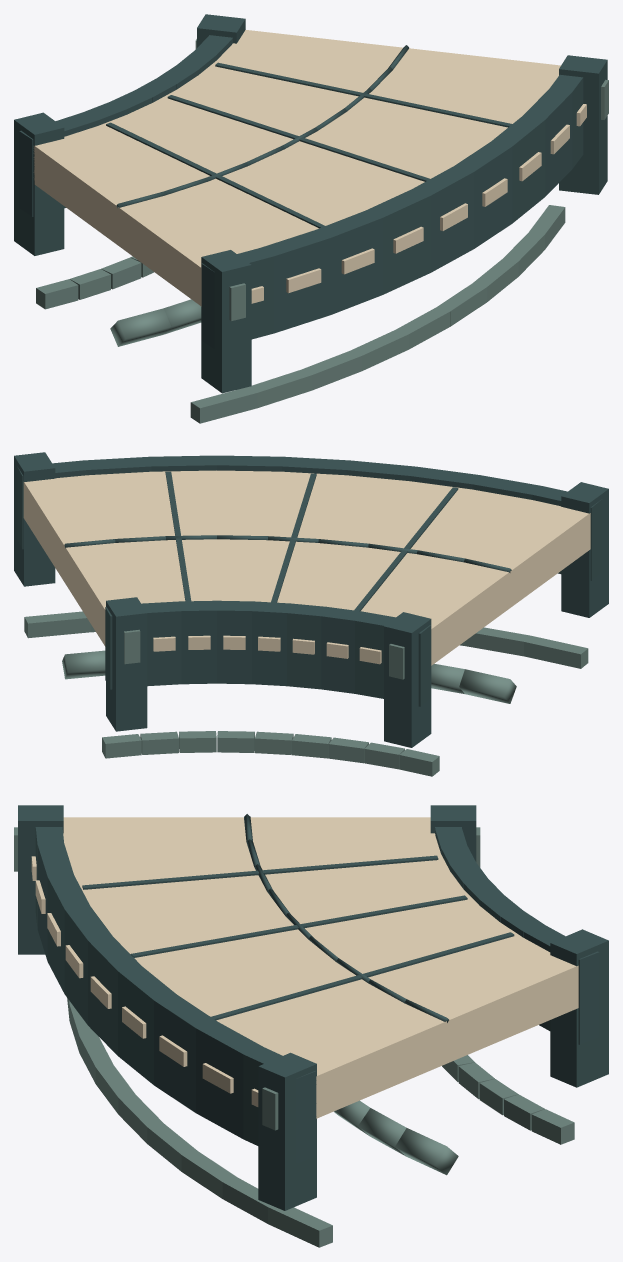
The model's file is Curve_45_lab2.glb.
The picture shows the model from 3 angles, top to bottom: view 1: azimuth 30°, elevation 25°; view 2: azimuth 150°, elevation 25°; view 3: azimuth 270°, elevation 25°; orthographic projection. The views are drawn at different scales.
Parts seen in each view (by area): view 1: Curve_45; view 2: Curve_45; view 3: Curve_45.
Part boxes in pixels (x1=…): Curve_45: x1=14, y1=14, x2=608, y2=423; Curve_45: x1=14, y1=452, x2=608, y2=776; Curve_45: x1=14, y1=805, x2=608, y2=1247.
Bounding box in the file's own units: 4.83 × 1.52 × 4.44.
